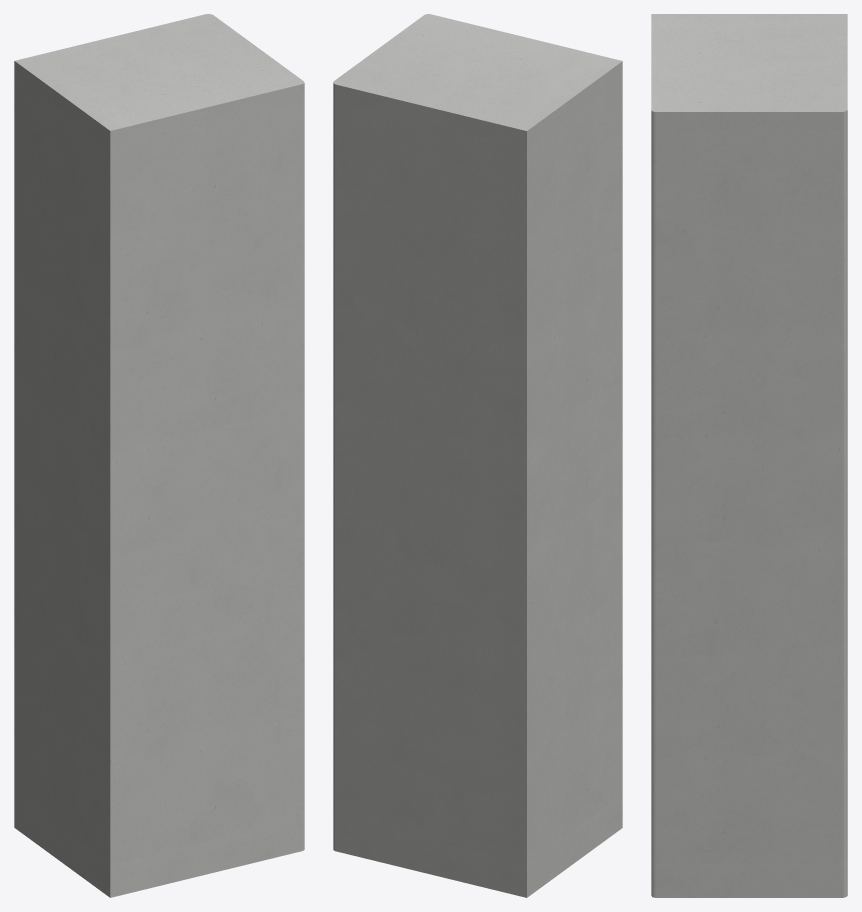
File: Zhu2.fbx
3 views of the same model, side by side, from view 1: azimuth 30°, elevation 25°; view 2: azimuth 150°, elevation 25°; view 3: azimuth 270°, elevation 25° (orthographic). The views are drawn at different scales.
Parts seen in each view (by area): view 1: polySurface693; view 2: polySurface693; view 3: polySurface693.
Part boxes in pixels (<box>): polySurface693: <box>14,14,304,897</box>; polySurface693: <box>333,14,622,897</box>; polySurface693: <box>651,14,847,897</box>.
Size of the model in its own units: 0.71 by 2.65 by 0.6011.
